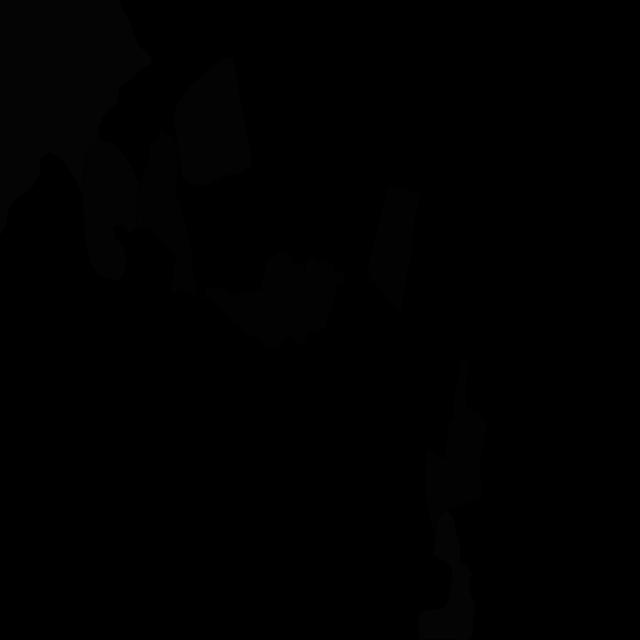cardboard: (203, 252, 344, 351), (425, 356, 487, 529), (136, 129, 197, 295), (368, 186, 421, 313)
metal: (174, 57, 251, 186), (83, 138, 138, 281)
soft_plastic: (418, 511, 475, 640)
